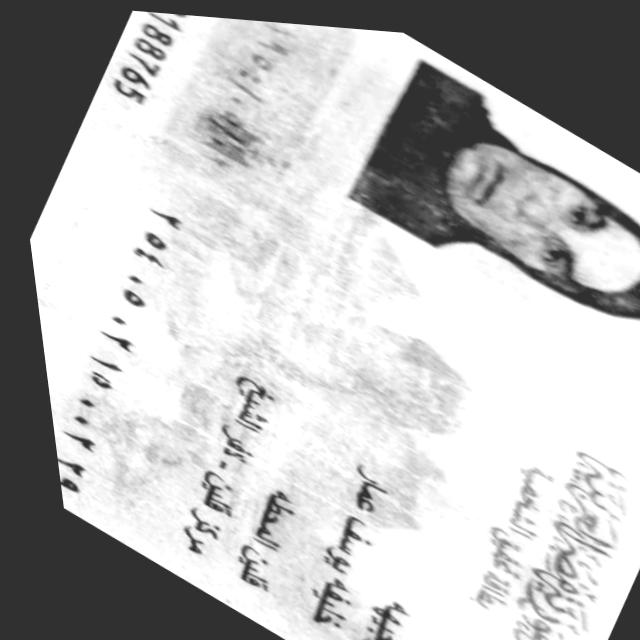id_card: (30, 11, 640, 640)
